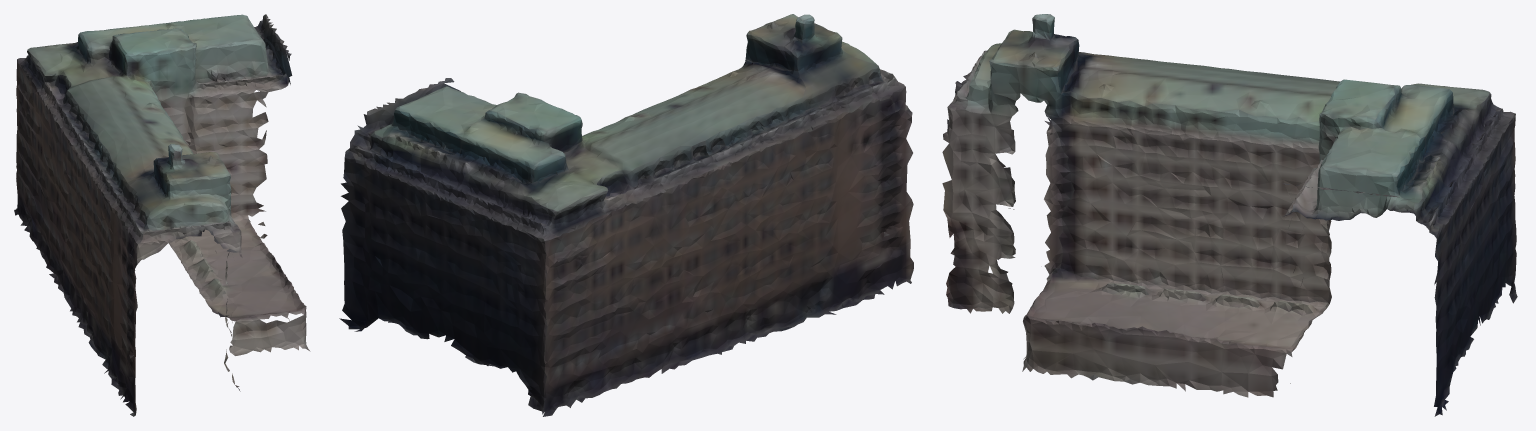
File: input.glb
3 renders of one model, left to right at view 1: azimuth 30°, elevation 25°; view 2: azimuth 150°, elevation 25°; view 3: azimuth 270°, elevation 25°, orthographic. The views are drawn at different scales.
Visible parts, largest first — view 1: input.glb; view 2: input.glb; view 3: input.glb.
Boxes of the visible parts, x1,y1,x2,y2 form: input.glb: (14, 14, 310, 416); input.glb: (339, 14, 913, 416); input.glb: (942, 14, 1517, 416).
Bounding box in the file's own units: 48.46 × 34.27 × 62.65.
1 material, 1 textured.
